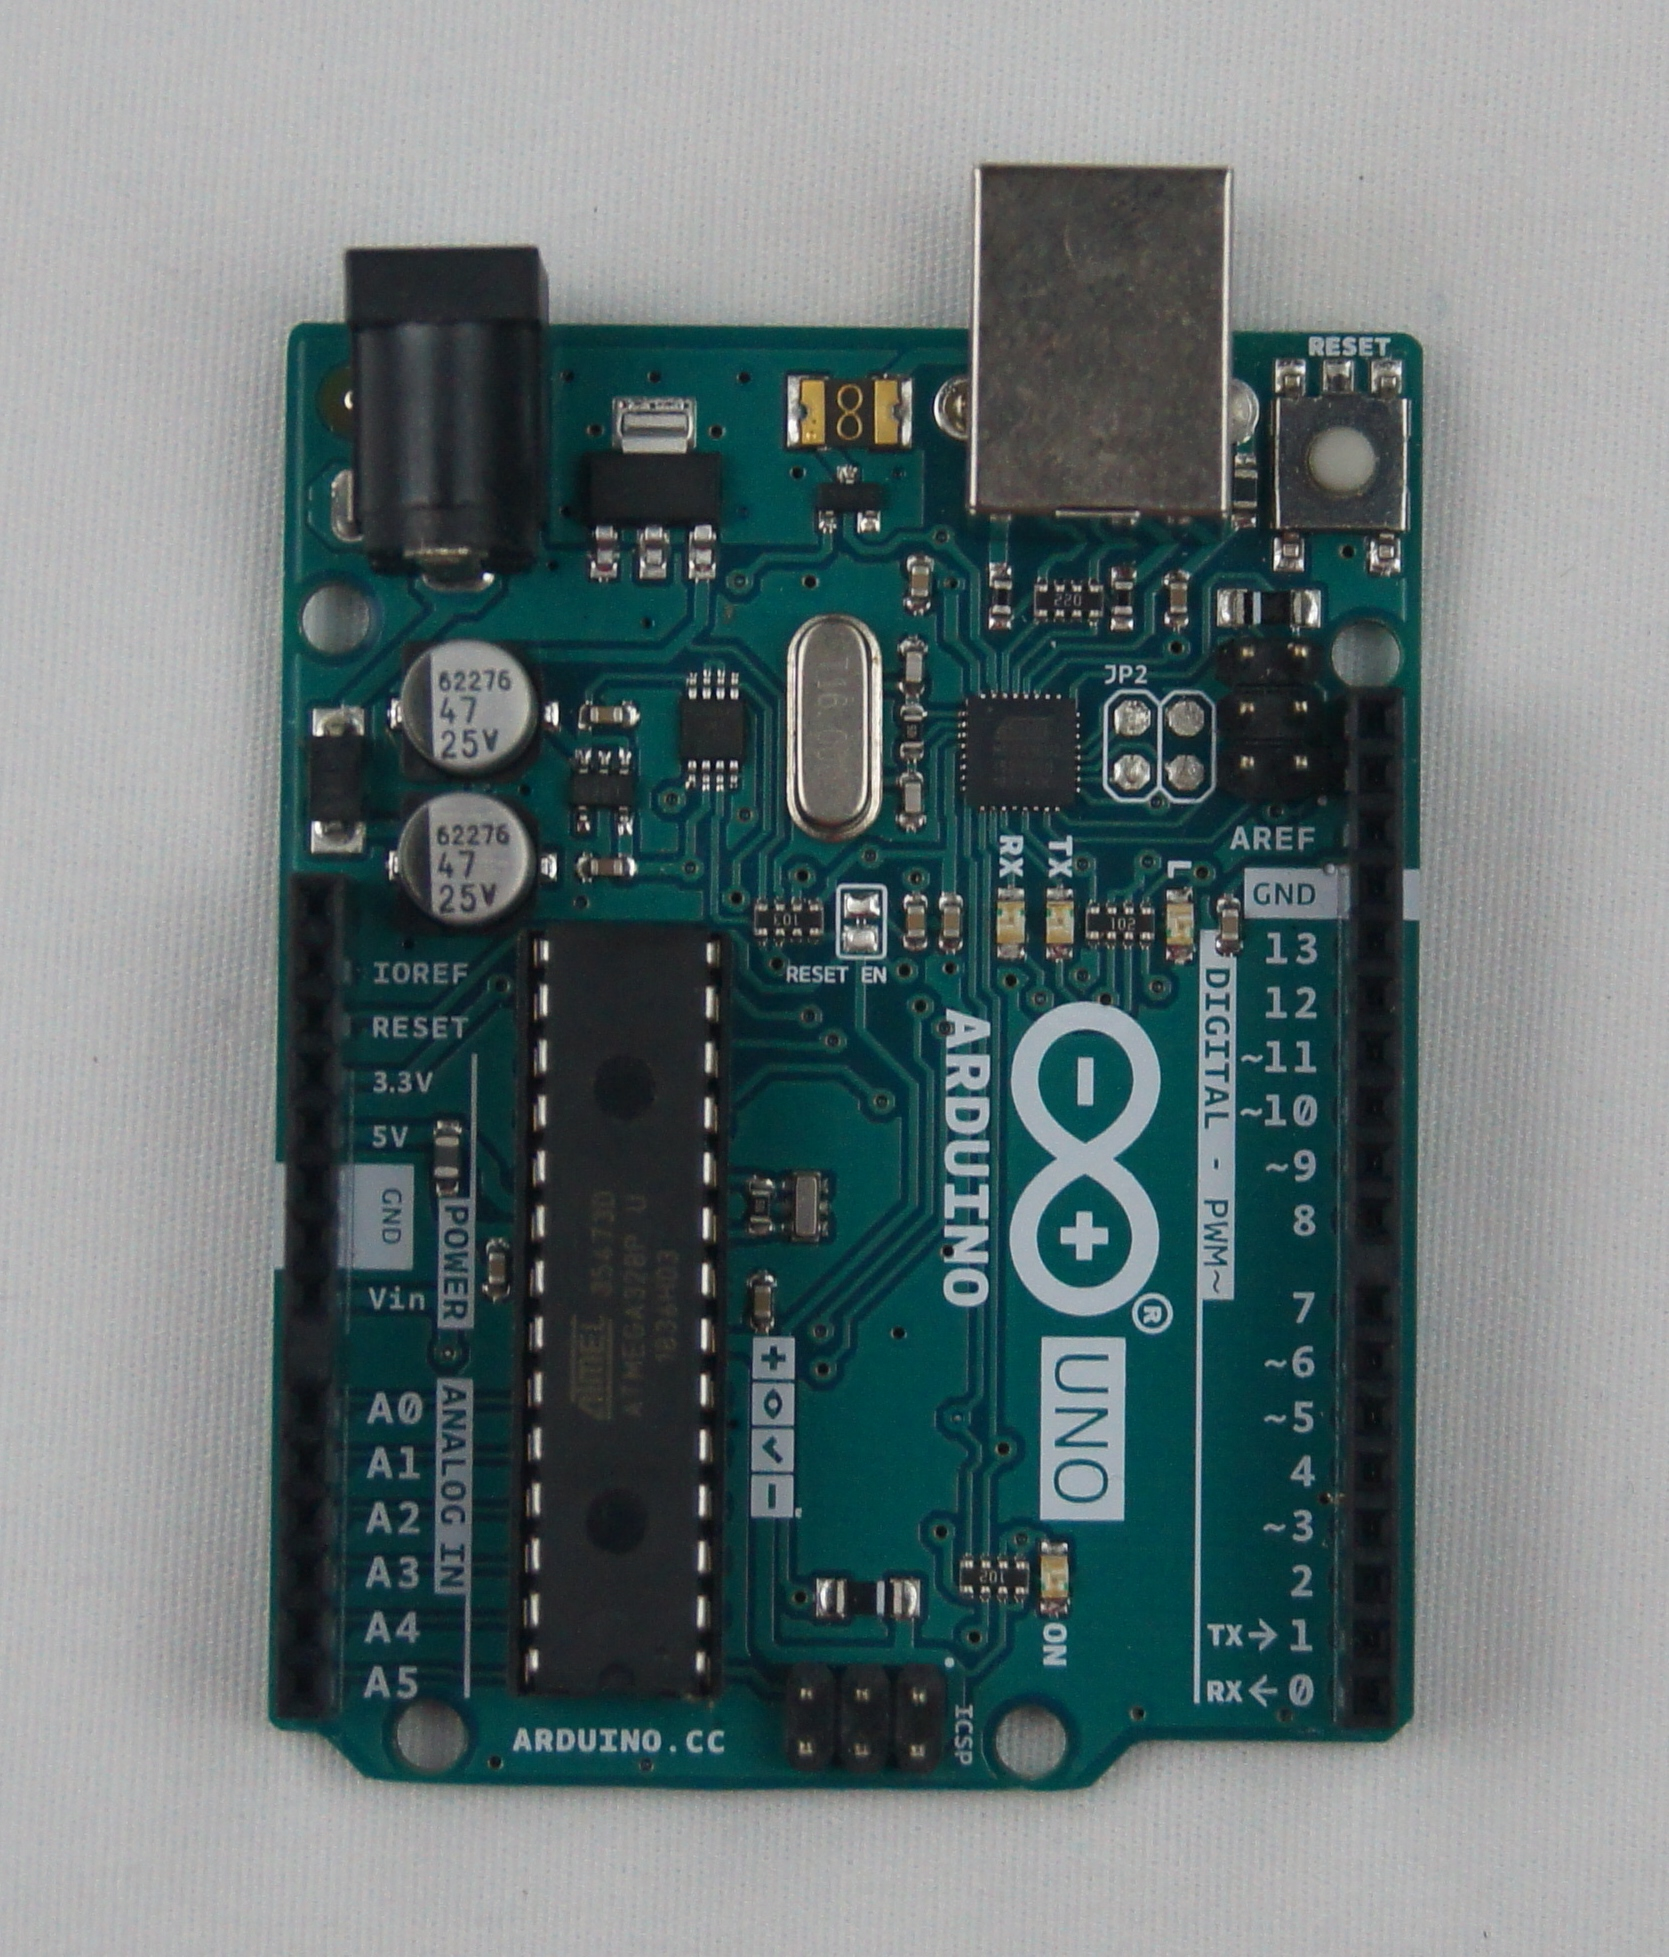connector: (339, 235, 560, 584), (263, 866, 349, 1725), (1338, 689, 1407, 1729), (782, 1656, 945, 1785), (1219, 637, 1328, 800), (1164, 694, 1210, 800), (1109, 694, 1154, 803)
